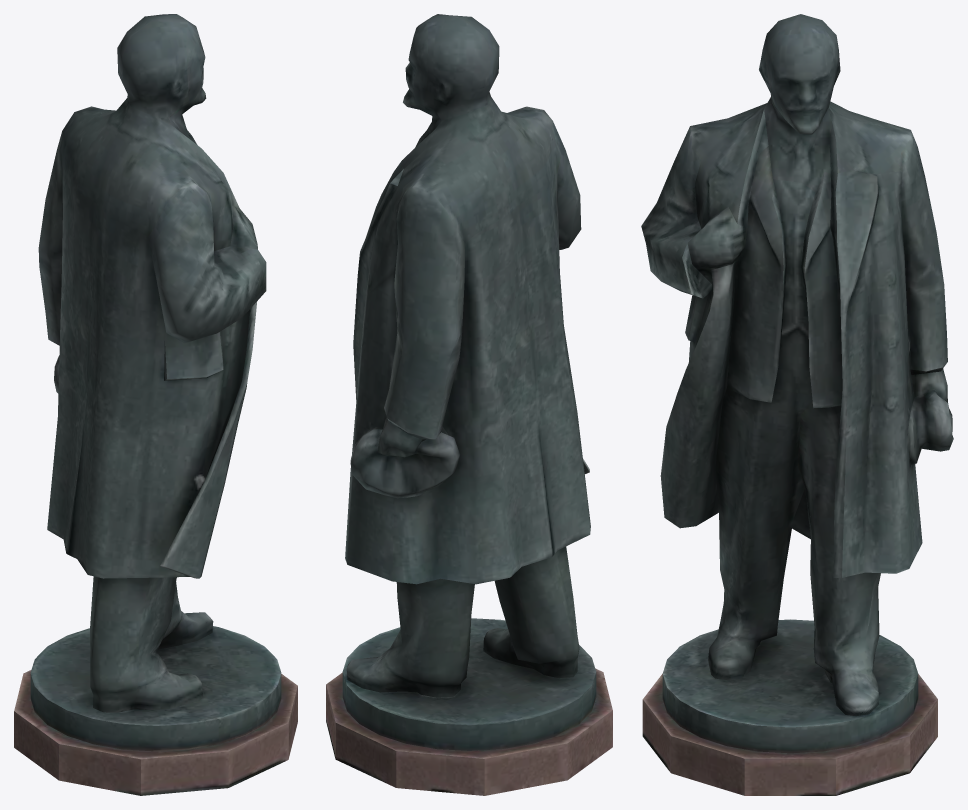
File: lenin_monument.glb
3 views of the same model, side by side, from view 1: azimuth 30°, elevation 25°; view 2: azimuth 150°, elevation 25°; view 3: azimuth 270°, elevation 25° (orthographic).
Parts seen in each view (by area): view 1: Plane, Cylinder; view 2: Plane, Cylinder; view 3: Plane, Cylinder.
Part boxes in pixels (x1,y1,x2,y2): Plane: (38,14,266,712); Cylinder: (14,626,297,795); Plane: (345,14,590,697); Cylinder: (326,618,612,795); Plane: (641,14,953,716); Cylinder: (642,619,937,795).
Size of the model in its own units: 1.41 by 4.01 by 1.57.
1 material, 1 textured.
